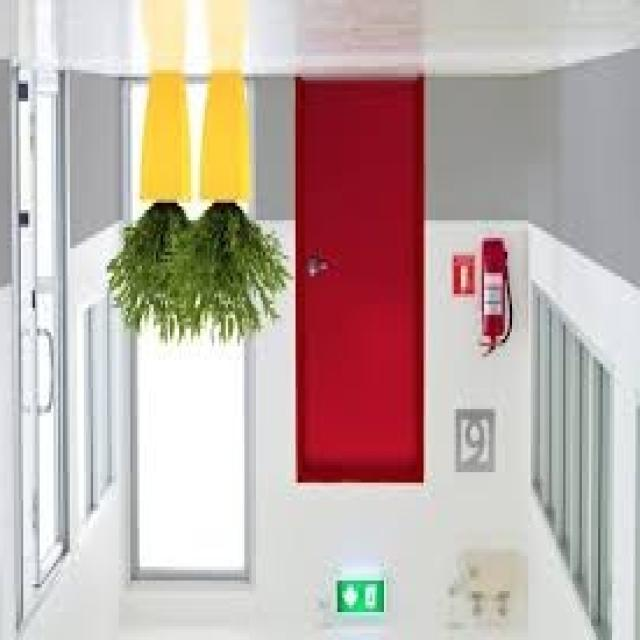door: (294, 77, 425, 486)
